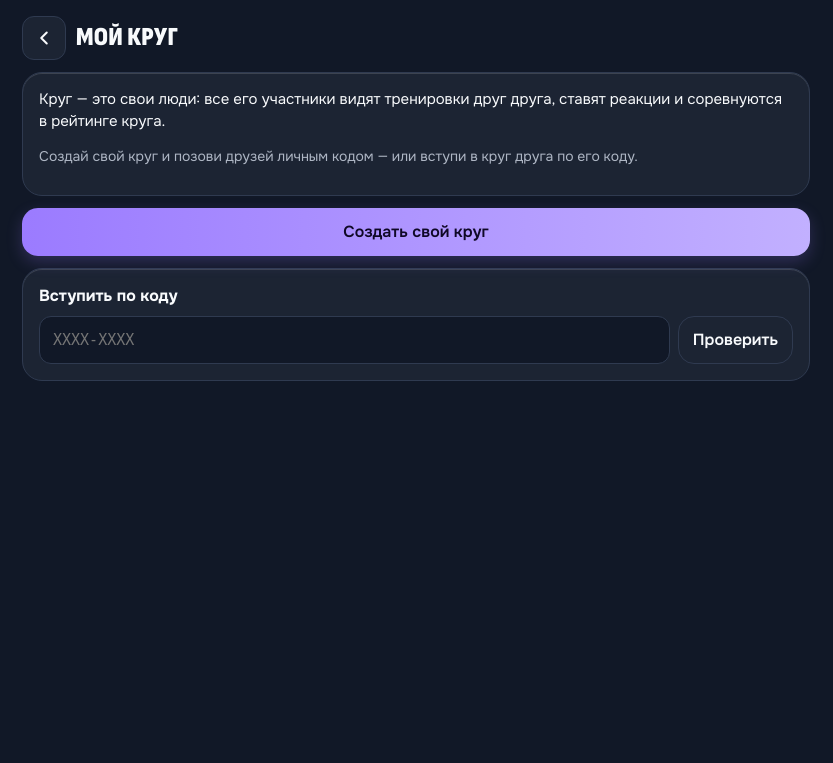
Test case: CircleScreen › нет кругов — объяснение, «Создать свой круг», «Вступить по коду»
Expected: the text "свои люди" is shown, [39, 89, 782, 131]
Click the button "Создать свой круг": (416, 232) [22, 208, 810, 256]
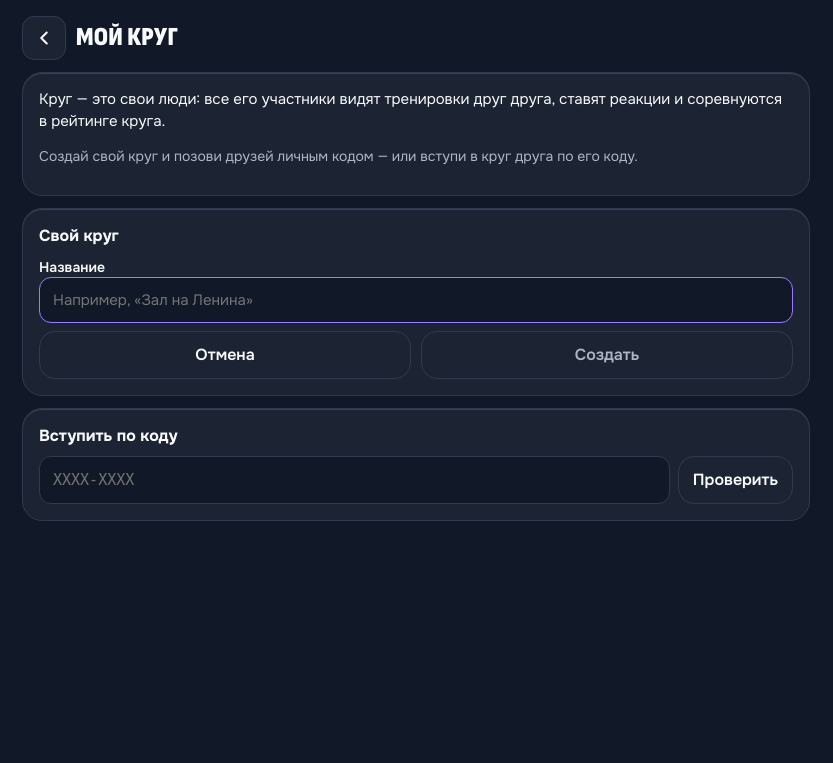
In the field labelled "Название": (416, 300) [39, 276, 793, 322], type "Зал"
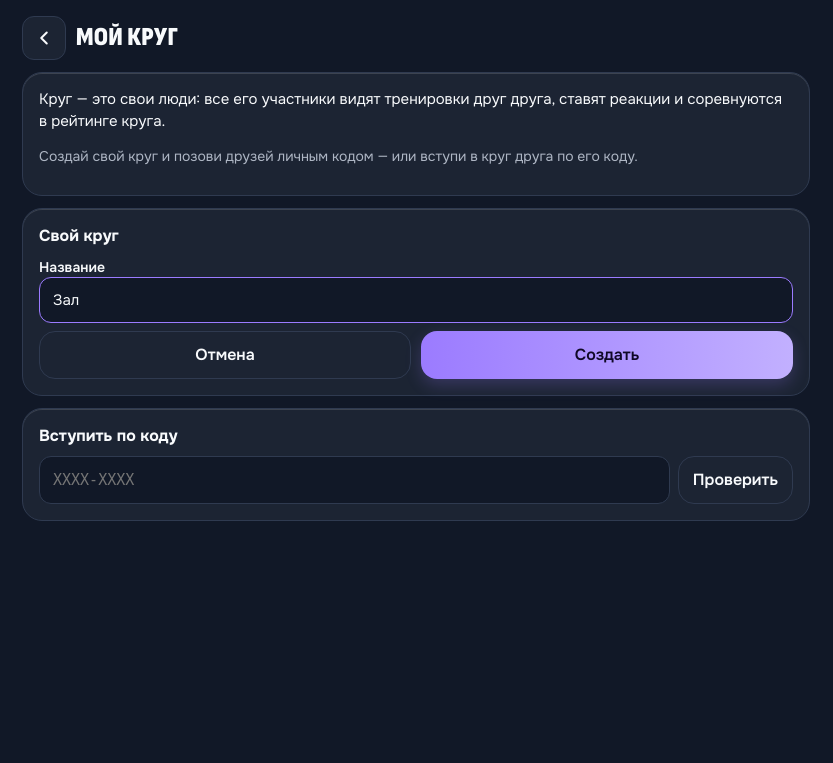
Click the button "Создать": (607, 354) [421, 330, 793, 378]
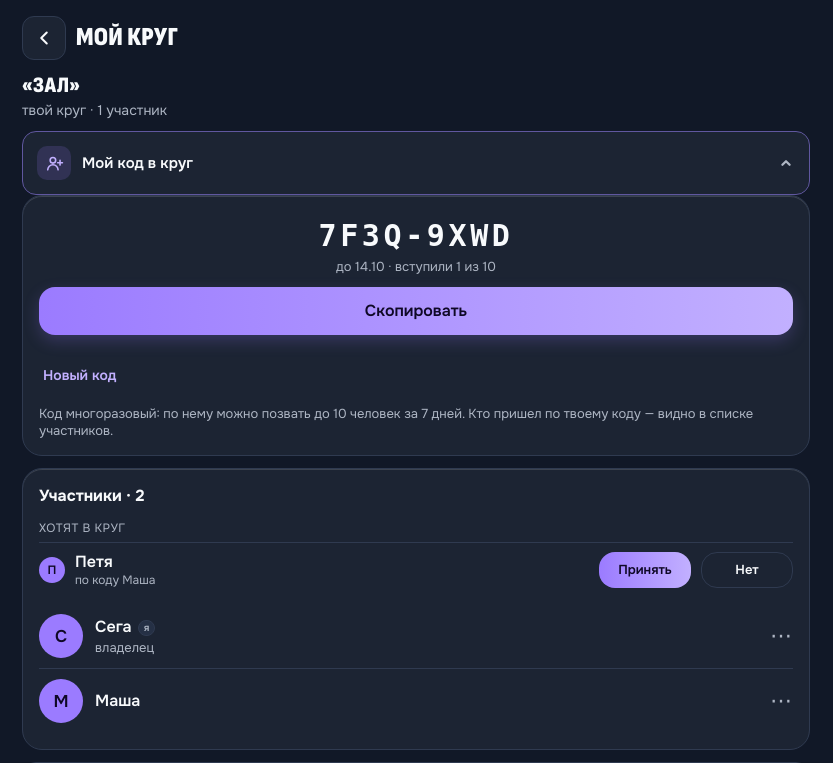
Result: the button with test id "fc-code" reads "7F3Q-9XWD" at [318, 218, 514, 253]
